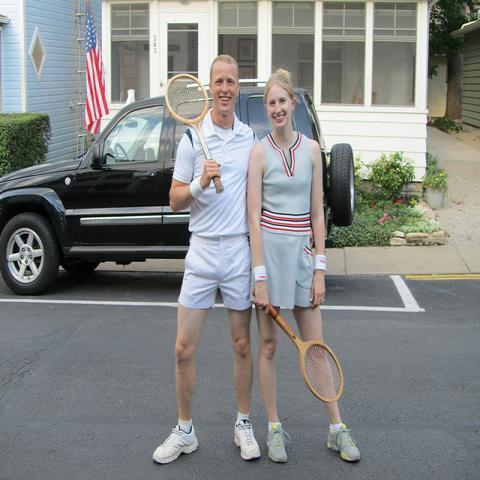car: (0, 78, 355, 296)
